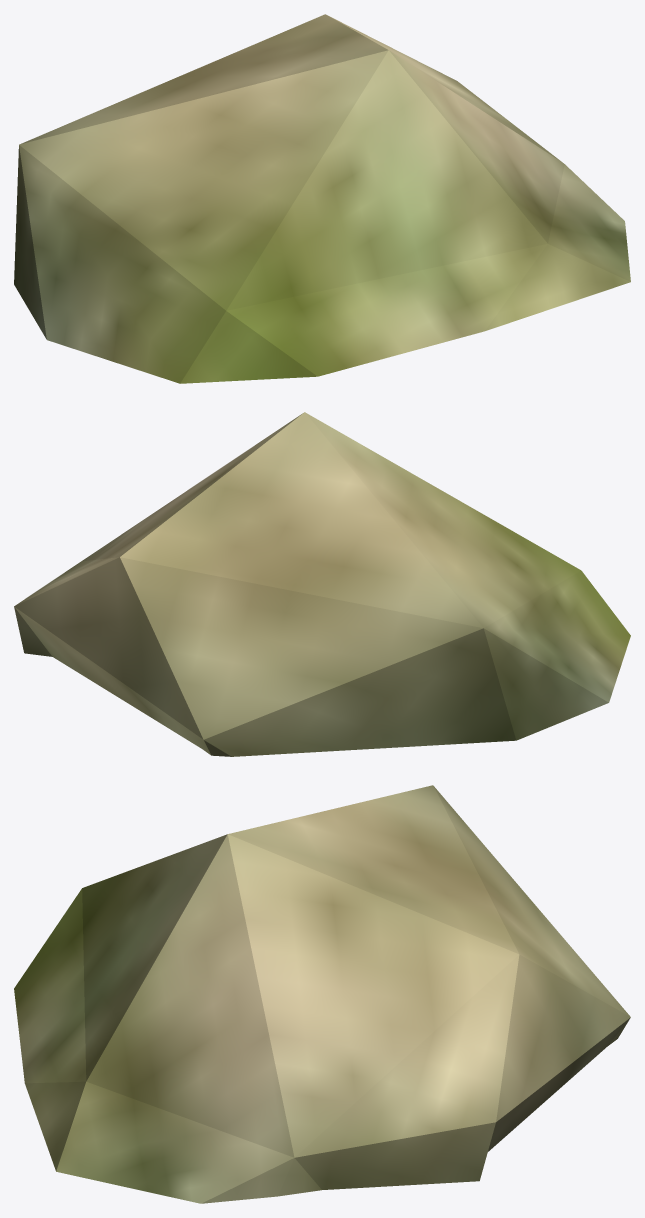
3 views of the same model, one above another, from view 1: azimuth 30°, elevation 25°; view 2: azimuth 150°, elevation 25°; view 3: azimuth 270°, elevation 25° (orthographic). The views are drawn at different scales.
Bounding box in the file's own units: 2.24 × 0.838 × 1.91.
Materials: 1 (1 with a texture image).
